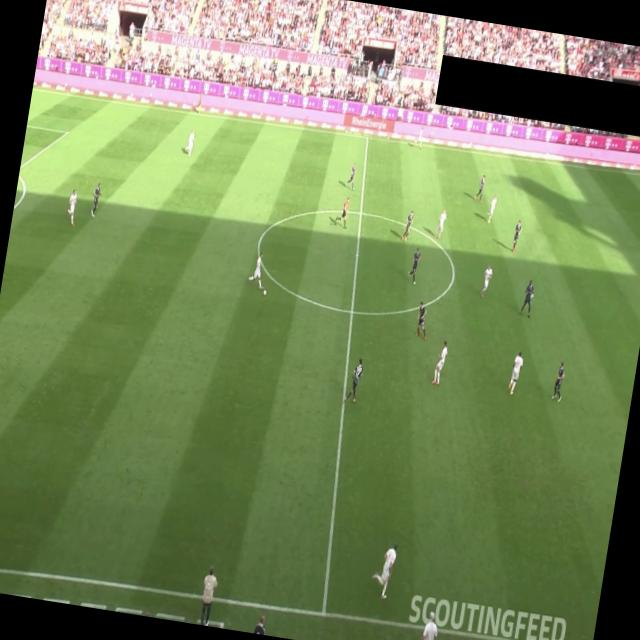ball: (262, 290, 268, 296)
player: (368, 540, 398, 601), (344, 356, 366, 406), (246, 250, 268, 290), (507, 349, 525, 396), (432, 339, 449, 386), (550, 360, 568, 403), (414, 301, 432, 340), (64, 188, 81, 228), (407, 246, 423, 286), (520, 279, 536, 319), (90, 181, 104, 218), (480, 264, 494, 298), (401, 210, 415, 242), (434, 208, 448, 240), (512, 220, 524, 254), (184, 128, 197, 158), (487, 192, 498, 225), (346, 160, 358, 190), (474, 174, 486, 204), (416, 127, 424, 150)
referee: (333, 194, 351, 230), (193, 90, 206, 116)
